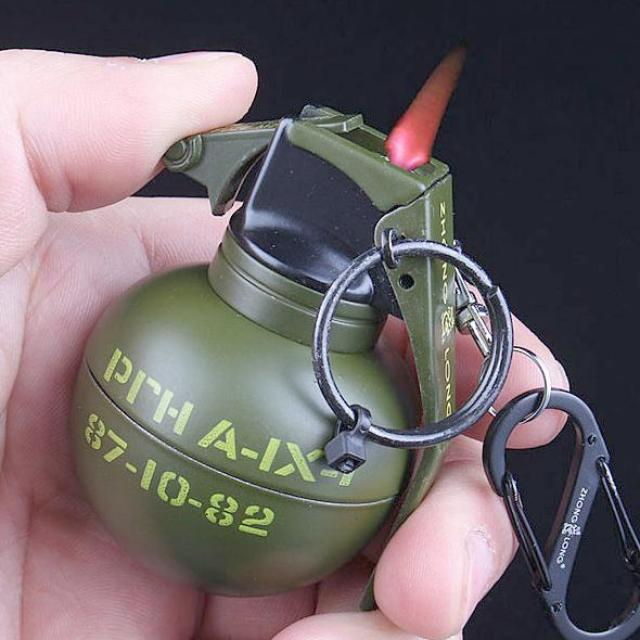grenade: (69, 104, 514, 601)
